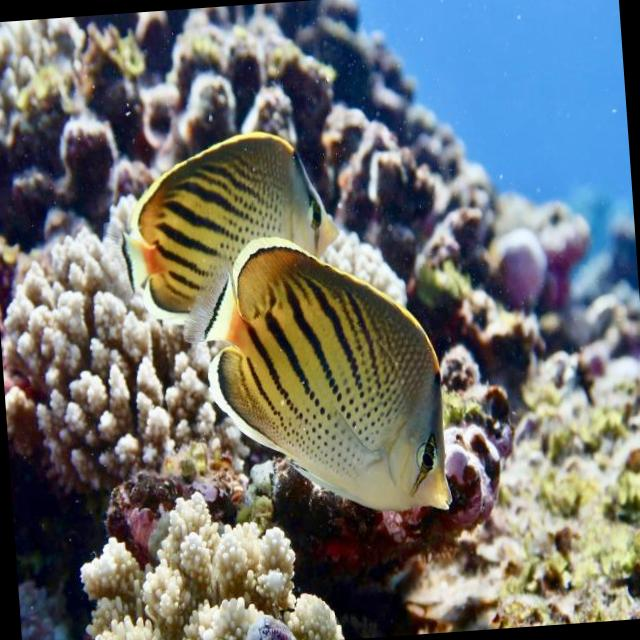ButterflyFish: (202, 229, 454, 537), (112, 126, 347, 320)
